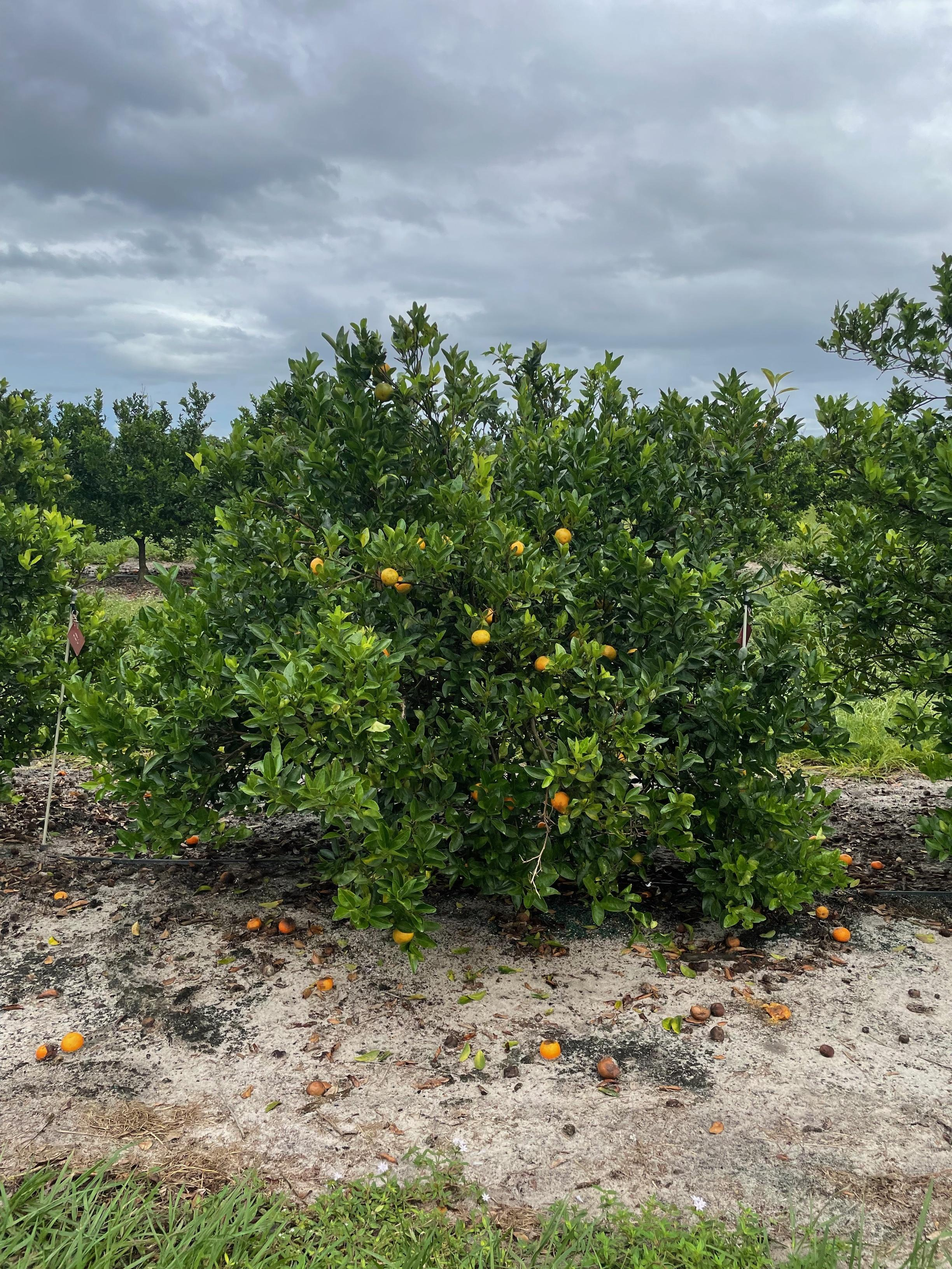fruit_on_ground: (467, 780, 493, 805), (390, 922, 417, 946), (549, 791, 574, 815), (532, 652, 556, 675), (307, 554, 330, 578), (378, 565, 401, 588), (478, 606, 502, 628), (373, 381, 395, 404), (470, 626, 492, 649), (392, 574, 414, 596), (565, 627, 588, 648), (370, 361, 392, 382), (499, 791, 520, 813), (506, 537, 527, 559), (552, 526, 574, 547), (408, 534, 429, 554), (597, 643, 618, 663), (625, 848, 644, 868)
fruit_on_tree: (595, 1054, 621, 1081), (763, 1001, 791, 1023), (539, 1038, 563, 1062), (60, 1030, 84, 1053), (687, 1001, 710, 1022), (305, 1078, 328, 1097), (831, 925, 852, 942), (707, 1024, 726, 1042), (277, 916, 296, 934), (316, 975, 334, 993), (35, 1042, 52, 1061), (817, 1042, 836, 1059), (218, 869, 236, 886), (709, 1000, 726, 1017), (725, 933, 742, 949), (246, 915, 263, 930), (814, 904, 831, 919), (534, 817, 550, 832), (184, 832, 201, 846), (52, 888, 68, 902), (838, 852, 854, 866), (870, 858, 884, 870)
